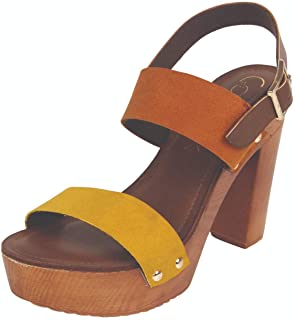shoes: (1, 1, 292, 317)
